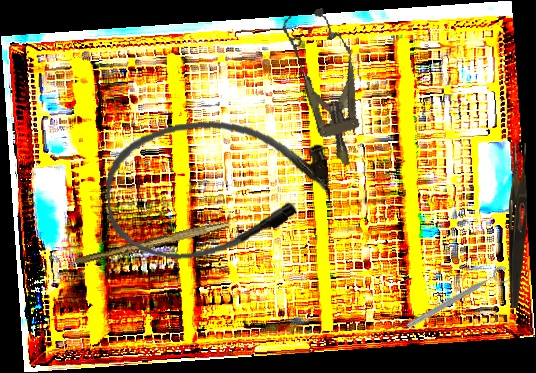Cannula: (101, 111, 335, 266)
Dressing Forceps: (508, 143, 527, 308)
Fixation Ring: (403, 263, 514, 338)
Scalpel Handle: (74, 216, 229, 269)
Speculum: (277, 3, 378, 173)
